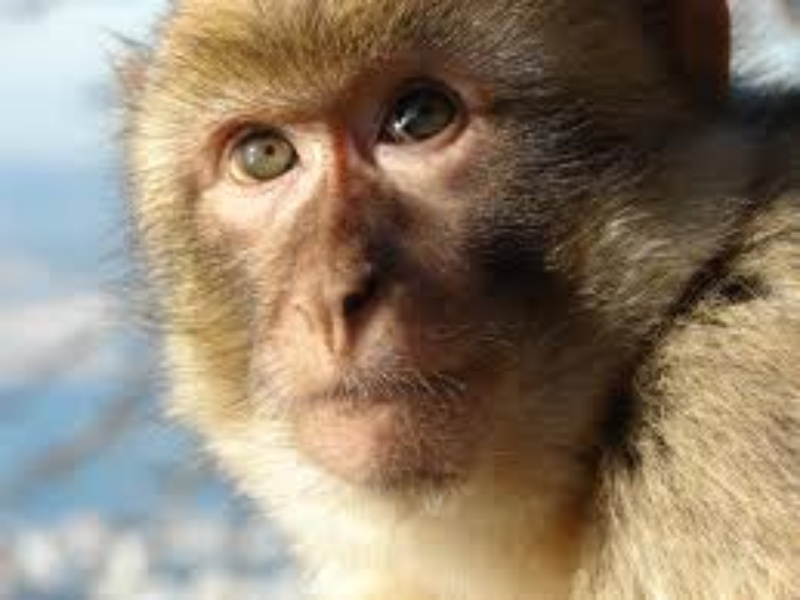monkey: (111, 1, 789, 600)
